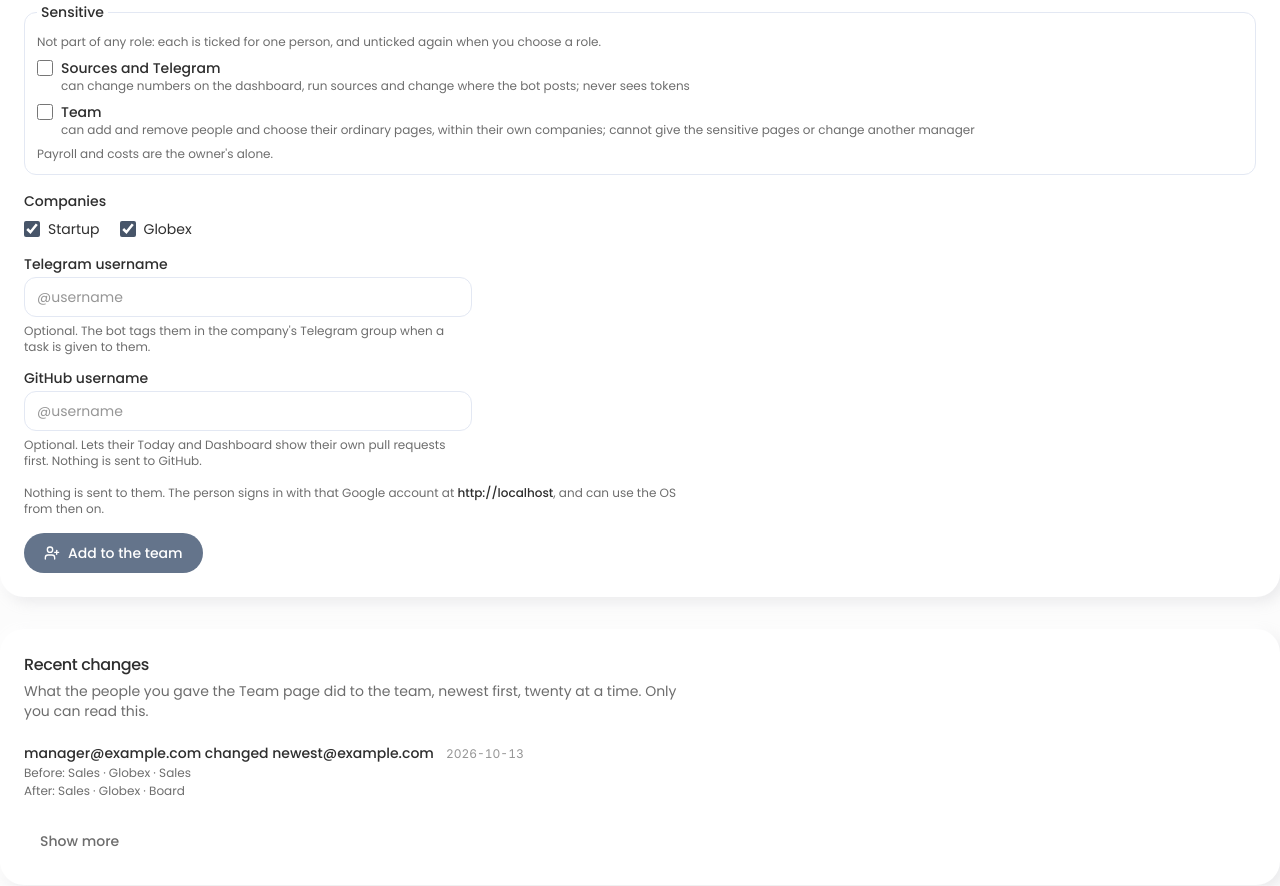
Test: the owner's record of what managers changed › Show more asks for the page before, and adds it under what is already shown
The width and height of the screenshot is (1280, 886).
(page scrolled)
Expected: the number of list items is 1, [24,743,524,799]
Click the button "Show more" at (80, 841), box [24,821,135,861]
(page scrolled)
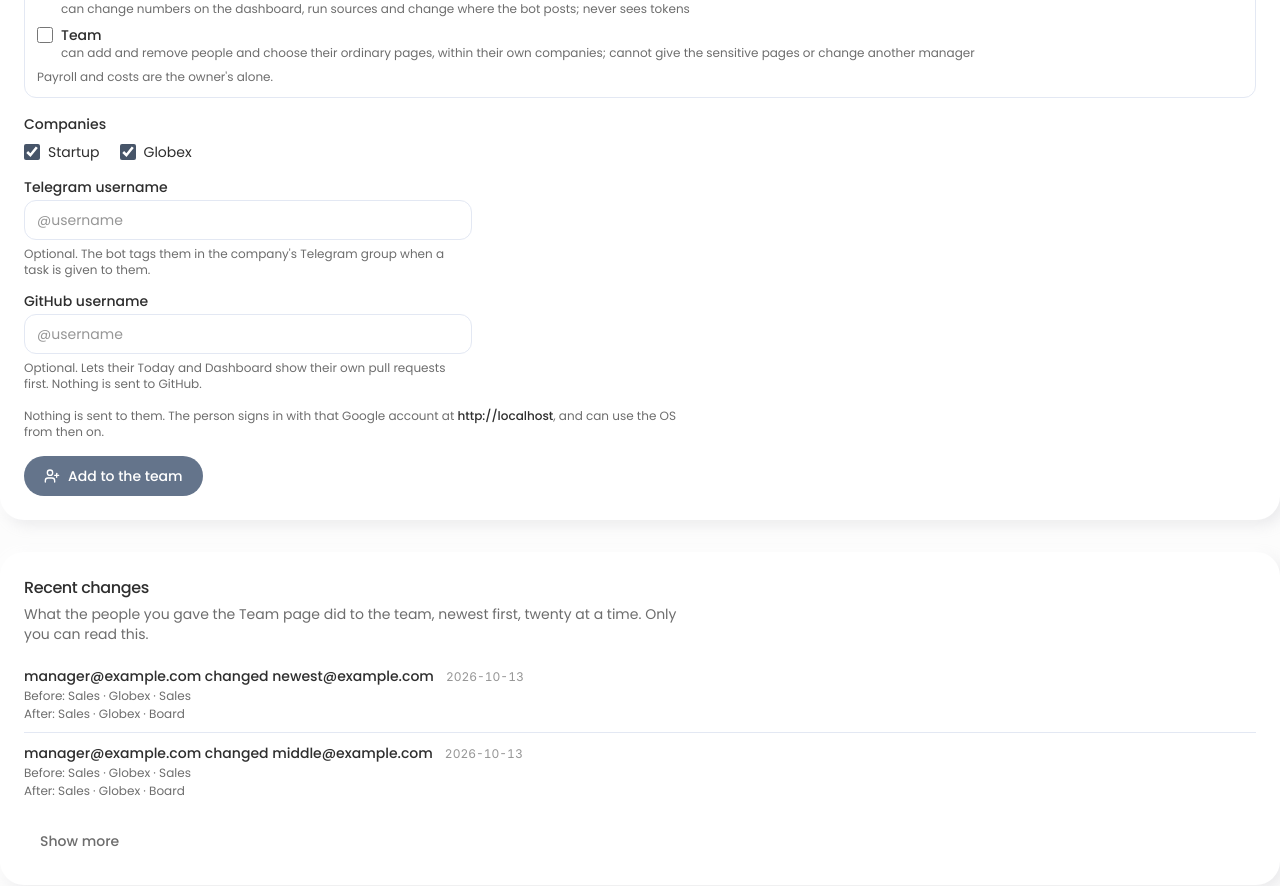
Click the button "Show more" at (80, 841), box [24,821,135,861]
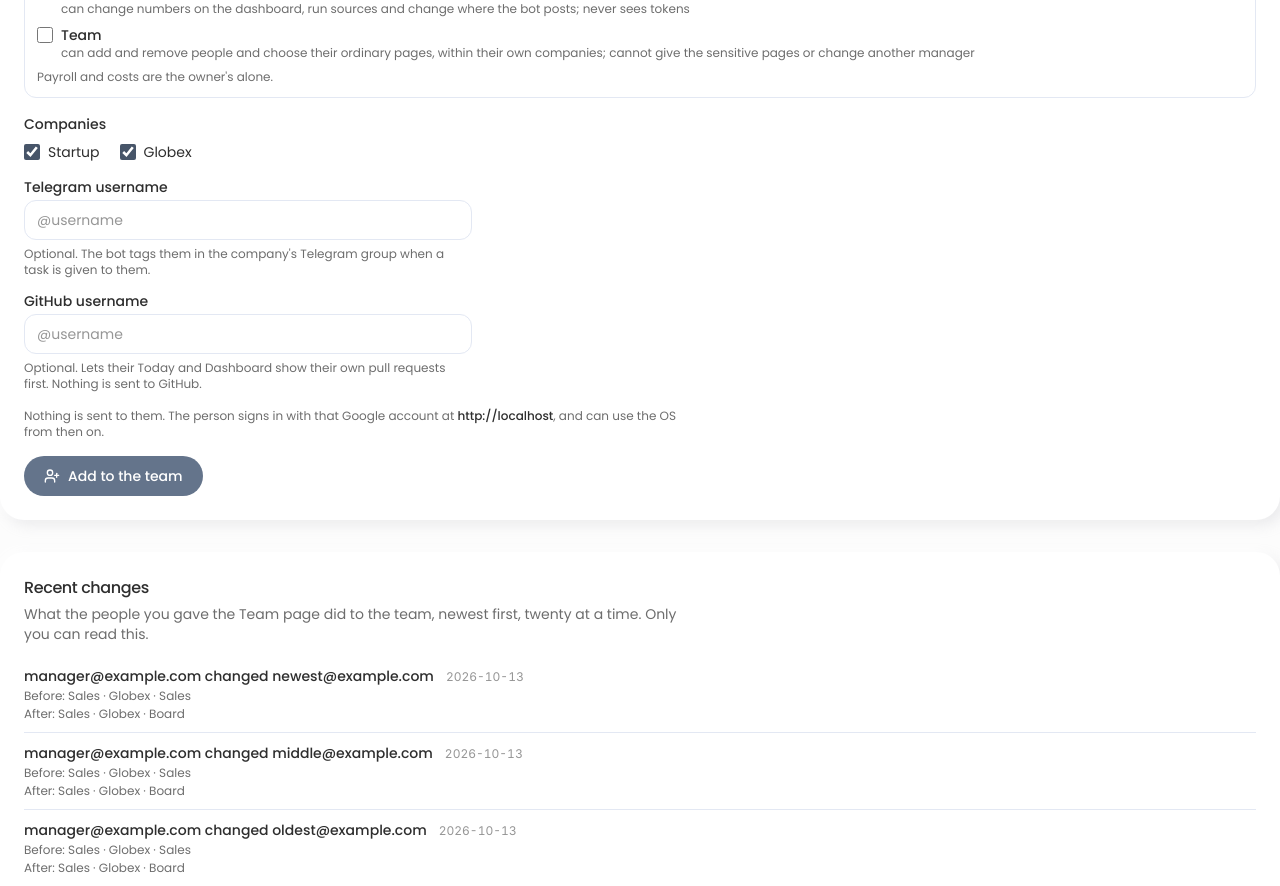
Expected: the number of list items is 3, [24,666,524,722]; [24,743,523,799]; [24,820,516,876]
Expected: the button "Show more" is gone
